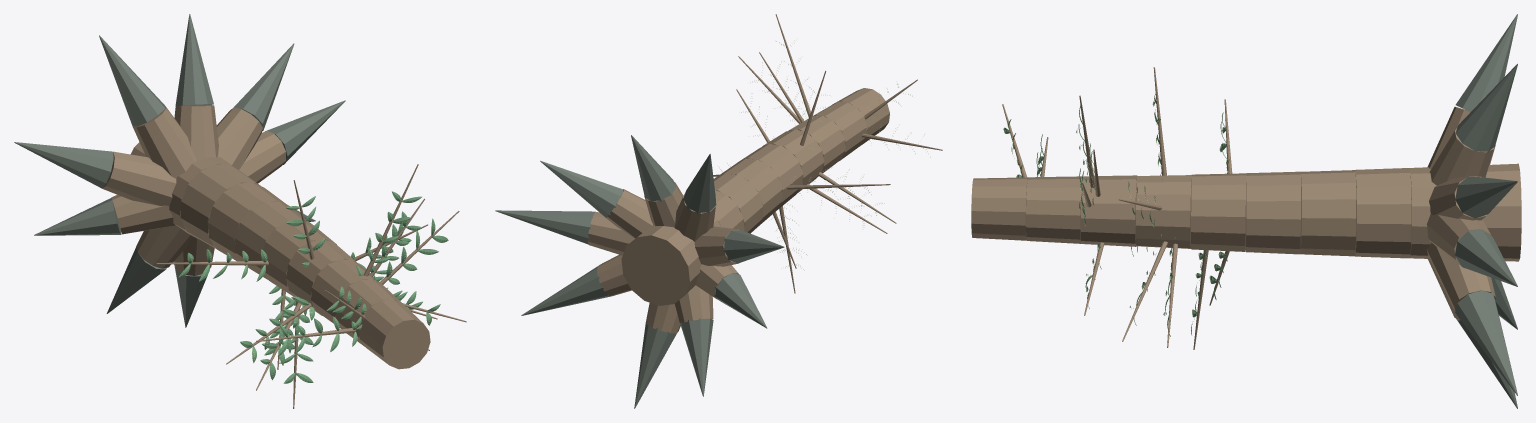
File: Aquarion_Ancient_Root_Crown.glb
3 renders of one model, left to right at view 1: azimuth 30°, elevation 25°; view 2: azimuth 150°, elevation 25°; view 3: azimuth 270°, elevation 25°, orthographic. The views are drawn at different scales.
Visible parts, largest first — view 1: Aquarion_Ancient_Root_Crown_trunk9, Aquarion_Ancient_Root_Crown_buttress4a, Aquarion_Ancient_Root_Crown_trunk2, Aquarion_Ancient_Root_Crown_trunk3, Aquarion_Ancient_Root_Crown_buttress3a, Aquarion_Ancient_Root_Crown_trunk4, Aquarion_Ancient_Root_Crown_buttress4b, Aquarion_Ancient_Root_Crown_buttress3b, Aquarion_Ancient_Root_Crown_trunk5, Aquarion_Ancient_Root_Crown_buttress1a, Aquarion_Ancient_Root_Crown_trunk6, Aquarion_Ancient_Root_Crown_buttress2b (+15 smaller); view 2: Aquarion_Ancient_Root_Crown_trunk0, Aquarion_Ancient_Root_Crown_buttress0b, Aquarion_Ancient_Root_Crown_trunk4, Aquarion_Ancient_Root_Crown_buttress1b, Aquarion_Ancient_Root_Crown_trunk5, Aquarion_Ancient_Root_Crown_trunk3, Aquarion_Ancient_Root_Crown_buttress8b, Aquarion_Ancient_Root_Crown_trunk6, Aquarion_Ancient_Root_Crown_buttress7b, Aquarion_Ancient_Root_Crown_buttress6b, Aquarion_Ancient_Root_Crown_trunk7, Aquarion_Ancient_Root_Crown_buttress2b (+15 smaller); view 3: Aquarion_Ancient_Root_Crown_trunk2, Aquarion_Ancient_Root_Crown_trunk3, Aquarion_Ancient_Root_Crown_trunk4, Aquarion_Ancient_Root_Crown_trunk5, Aquarion_Ancient_Root_Crown_trunk6, Aquarion_Ancient_Root_Crown_trunk8, Aquarion_Ancient_Root_Crown_trunk7, Aquarion_Ancient_Root_Crown_trunk9, Aquarion_Ancient_Root_Crown_buttress8b, Aquarion_Ancient_Root_Crown_trunk0, Aquarion_Ancient_Root_Crown_buttress2b, Aquarion_Ancient_Root_Crown_buttress0b (+10 smaller).
Part boxes in pixels (box(x1,y1,x2,y2)): Aquarion_Ancient_Root_Crown_trunk9: box(359, 299, 430, 369); Aquarion_Ancient_Root_Crown_buttress4a: box(102, 151, 176, 205); Aquarion_Ancient_Root_Crown_trunk2: box(180, 164, 260, 248); Aquarion_Ancient_Root_Crown_trunk3: box(207, 182, 288, 261); Aquarion_Ancient_Root_Crown_buttress3a: box(132, 106, 196, 178); Aquarion_Ancient_Root_Crown_trunk4: box(234, 201, 312, 279); Aquarion_Ancient_Root_Crown_buttress4b: box(14, 142, 113, 188); Aquarion_Ancient_Root_Crown_buttress3b: box(99, 35, 165, 126); Aquarion_Ancient_Root_Crown_trunk5: box(260, 220, 336, 296); Aquarion_Ancient_Root_Crown_buttress1a: box(216, 107, 262, 169); Aquarion_Ancient_Root_Crown_trunk6: box(285, 239, 357, 315); Aquarion_Ancient_Root_Crown_buttress2b: box(175, 14, 213, 105); Aquarion_Ancient_Root_Crown_trunk0: box(621, 225, 700, 305); Aquarion_Ancient_Root_Crown_buttress0b: box(495, 210, 594, 244); Aquarion_Ancient_Root_Crown_trunk4: box(715, 158, 782, 227); Aquarion_Ancient_Root_Crown_buttress1b: box(540, 160, 623, 217); Aquarion_Ancient_Root_Crown_trunk5: box(737, 144, 803, 209); Aquarion_Ancient_Root_Crown_trunk3: box(713, 173, 763, 233); Aquarion_Ancient_Root_Crown_buttress8b: box(521, 266, 610, 315); Aquarion_Ancient_Root_Crown_trunk6: box(762, 129, 824, 192); Aquarion_Ancient_Root_Crown_buttress7b: box(634, 322, 676, 408); Aquarion_Ancient_Root_Crown_buttress6b: box(680, 318, 713, 396); Aquarion_Ancient_Root_Crown_trunk7: box(788, 115, 845, 176); Aquarion_Ancient_Root_Crown_buttress2b: box(631, 135, 676, 202); Aquarion_Ancient_Root_Crown_trunk2: box(1355, 168, 1411, 258); Aquarion_Ancient_Root_Crown_trunk3: box(1300, 170, 1356, 256); Aquarion_Ancient_Root_Crown_trunk4: box(1245, 171, 1300, 254); Aquarion_Ancient_Root_Crown_trunk5: box(1191, 173, 1246, 251); Aquarion_Ancient_Root_Crown_trunk6: box(1135, 175, 1191, 248); Aquarion_Ancient_Root_Crown_trunk8: box(1026, 176, 1081, 243); Aquarion_Ancient_Root_Crown_trunk7: box(1080, 175, 1137, 246); Aquarion_Ancient_Root_Crown_trunk9: box(971, 177, 1027, 240); Aquarion_Ancient_Root_Crown_buttress8b: box(1455, 290, 1517, 395); Aquarion_Ancient_Root_Crown_trunk0: box(1482, 163, 1521, 261); Aquarion_Ancient_Root_Crown_buttress2b: box(1455, 63, 1517, 152); Aquarion_Ancient_Root_Crown_buttress0b: box(1455, 229, 1517, 286).
Size of the model in its own units: 7.78 by 7.04 by 10.08.
